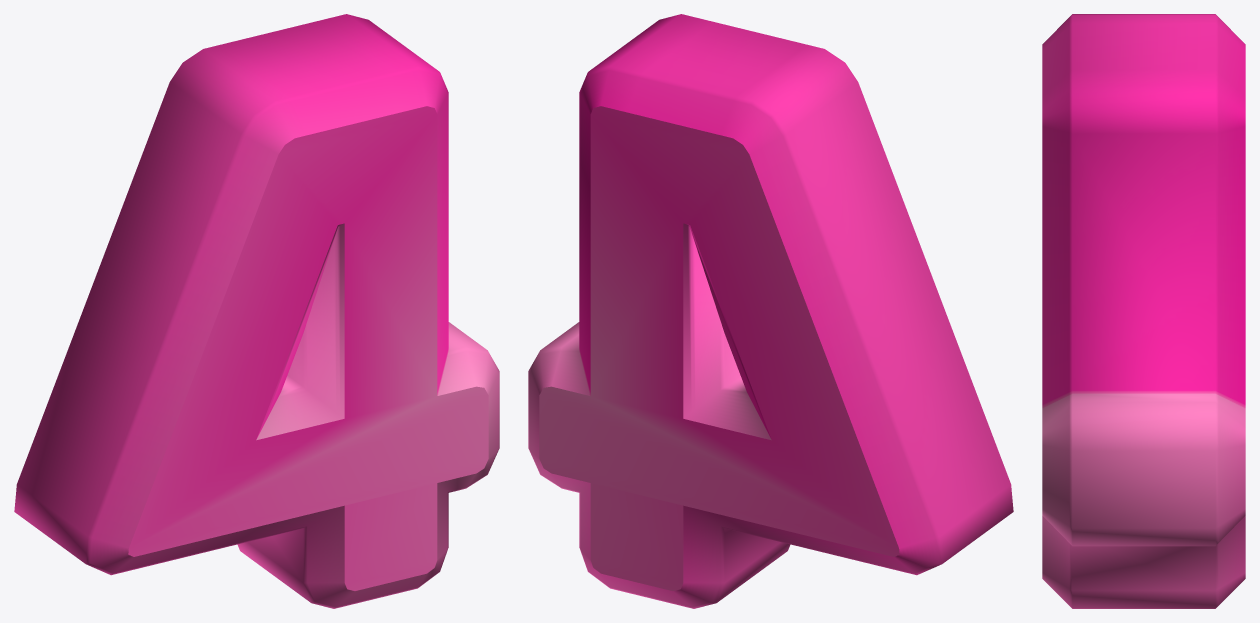
The model's file is fullStomach4.obj.
The picture shows the model from 3 angles, left to right: view 1: azimuth 30°, elevation 25°; view 2: azimuth 150°, elevation 25°; view 3: azimuth 270°, elevation 25°; orthographic projection.
Visible parts, largest first — view 1: テキスト; view 2: テキスト; view 3: テキスト.
Boxes of the visible parts, left/top/right/bottom form: テキスト: left=14, top=14, right=499, bottom=608; テキスト: left=528, top=14, right=1013, bottom=608; テキスト: left=1042, top=14, right=1245, bottom=608.
Size of the model in its own units: 1.74 by 2.1 by 0.74.
Materials: 1 (1 with a texture image).
